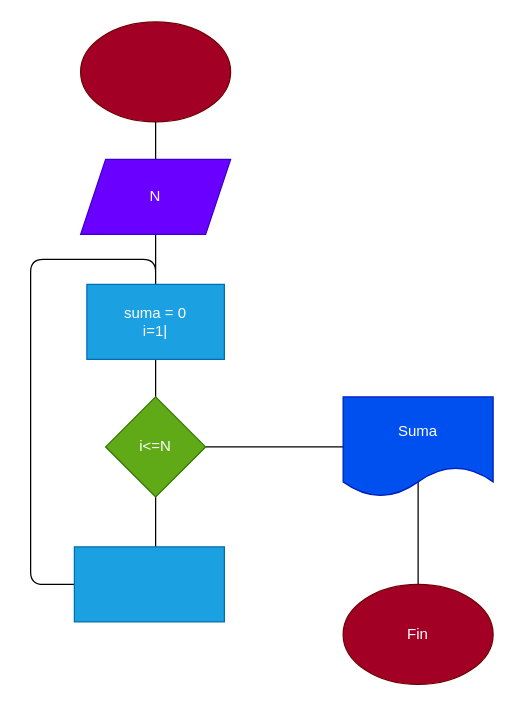
The diagram is 515 pixels wide and 706 high, and some of its shapes have lost their labels. Each missing label, with the box of its shape:
Inicio: (79, 21, 231, 122)
sumas=suma+i i=i+1: (73, 546, 224, 622)
